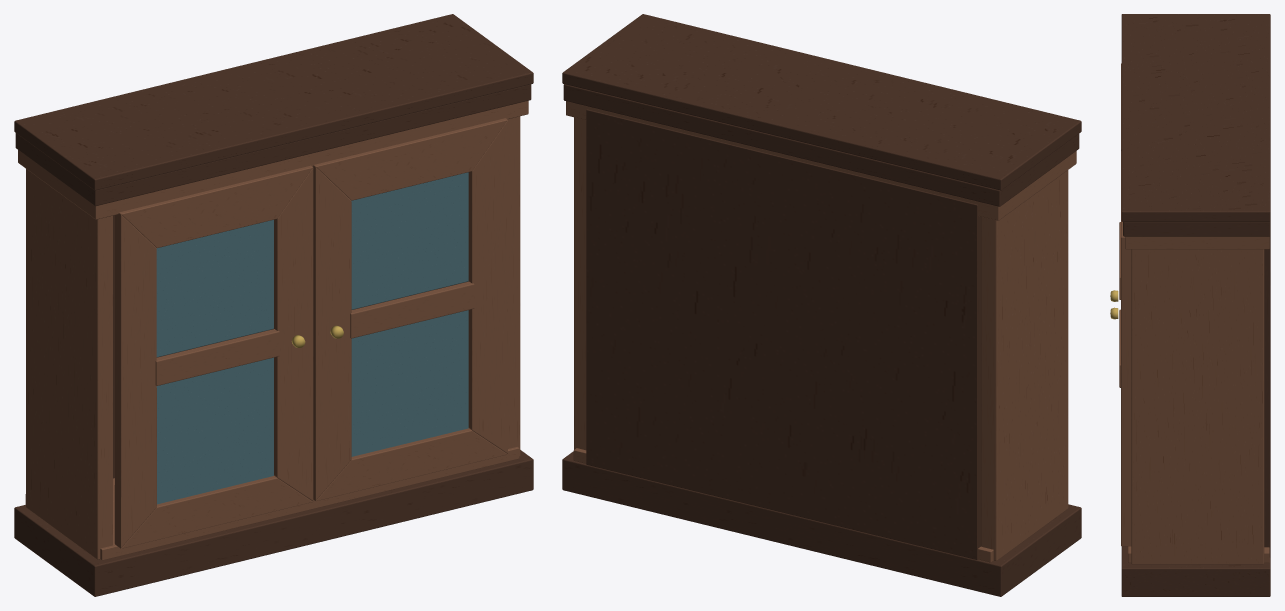
The model's file is WallCabinet_FUR06.fbx.
The picture shows the model from 3 angles, left to right: view 1: azimuth 30°, elevation 25°; view 2: azimuth 150°, elevation 25°; view 3: azimuth 270°, elevation 25°; orthographic projection. The views are drawn at different scales.
Parts seen in each view (by area): view 1: WallCabinet; view 2: WallCabinet; view 3: WallCabinet.
Boxes of the visible parts, left/top/right/bottom form: WallCabinet: left=14, top=14, right=533, bottom=596; WallCabinet: left=562, top=14, right=1081, bottom=596; WallCabinet: left=1110, top=14, right=1270, bottom=596.
Bounding box in the file's own units: 0.88 × 0.8 × 0.301.
Materials: 1 (1 with a texture image).
